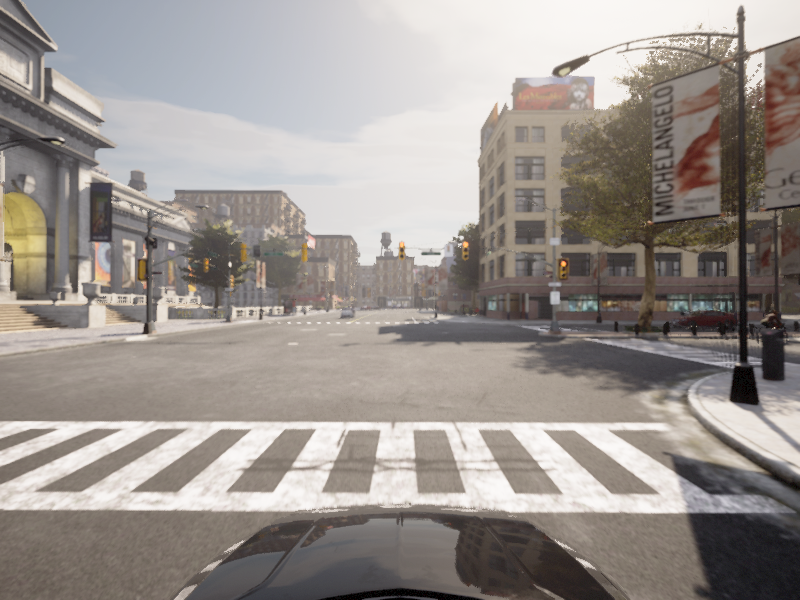vehicle: (666, 310, 742, 329), (750, 310, 793, 343)
